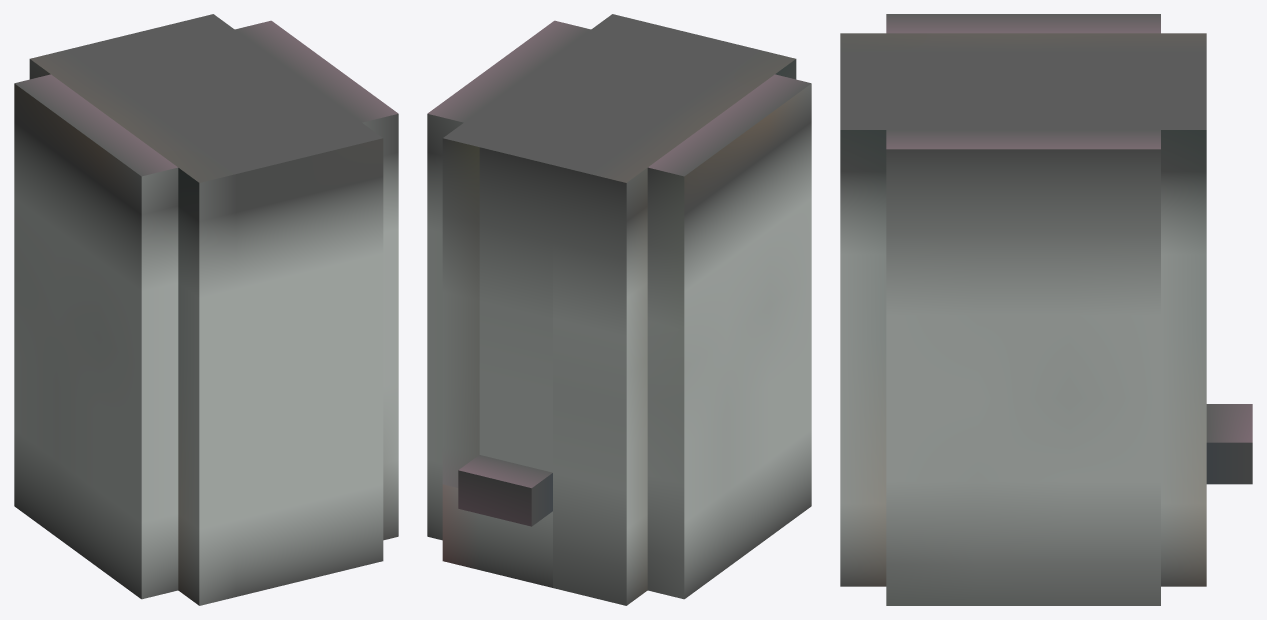
File: TrashBinSteel_00.obj
3 renders of one model, left to right at view 1: azimuth 30°, elevation 25°; view 2: azimuth 150°, elevation 25°; view 3: azimuth 270°, elevation 25°, orthographic. The views are drawn at different scales.
Parts seen in each view (by area): view 1: TrashBinSteel_00; view 2: TrashBinSteel_00; view 3: TrashBinSteel_00.
Boxes of the visible parts, x1,y1,x2,y2 form: TrashBinSteel_00: (14,14,398,605); TrashBinSteel_00: (427,14,811,605); TrashBinSteel_00: (840,14,1252,605).
Bounding box in the file's own units: 0.35 × 0.55 × 0.45.
